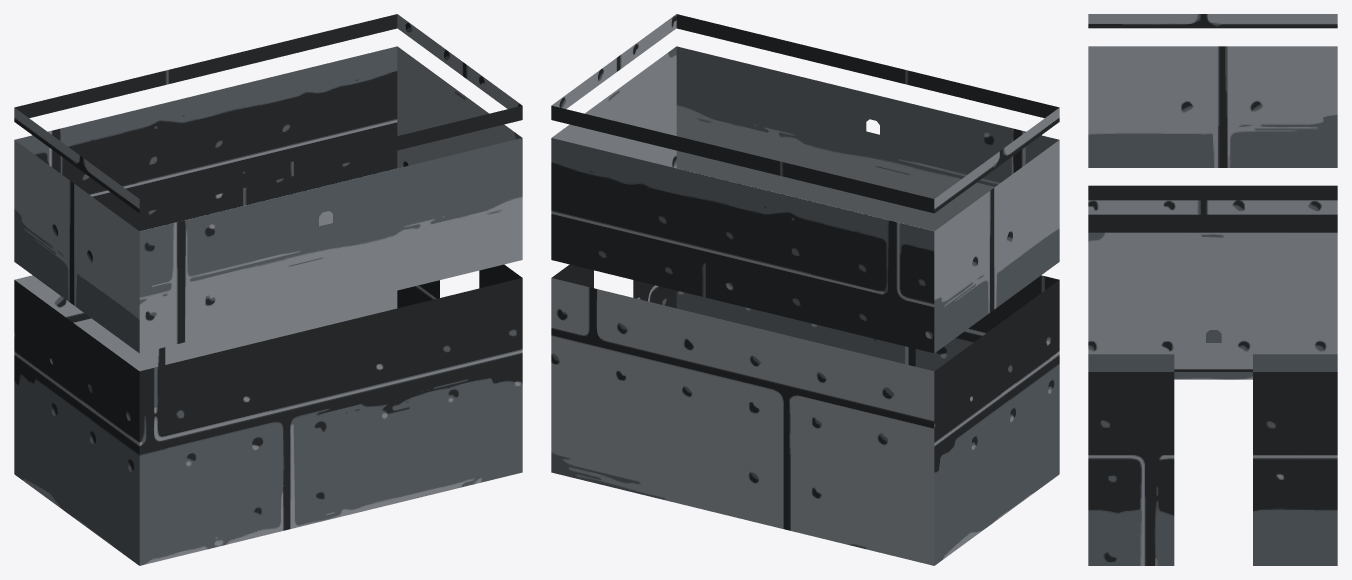
The model's file is Walls03.fbx.
3 views of the same model, side by side, from view 1: azimuth 30°, elevation 25°; view 2: azimuth 150°, elevation 25°; view 3: azimuth 270°, elevation 25° (orthographic).
Parts seen in each view (by area): view 1: Stairs__1_.019; view 2: Stairs__1_.019; view 3: Stairs__1_.019.
Boxes of the visible parts, x1=… form: Stairs__1_.019: x1=14, y1=14, x2=522, y2=565; Stairs__1_.019: x1=551, y1=14, x2=1059, y2=565; Stairs__1_.019: x1=1088, y1=14, x2=1337, y2=565.
Bounding box in the file's own units: 224 × 205 × 127.
